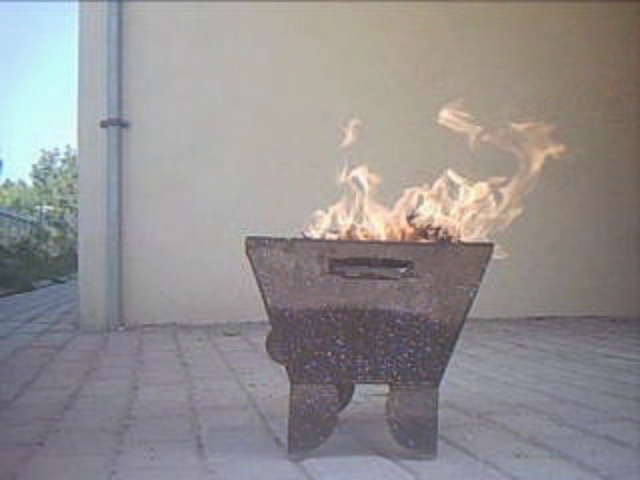fire: (311, 105, 554, 242)
